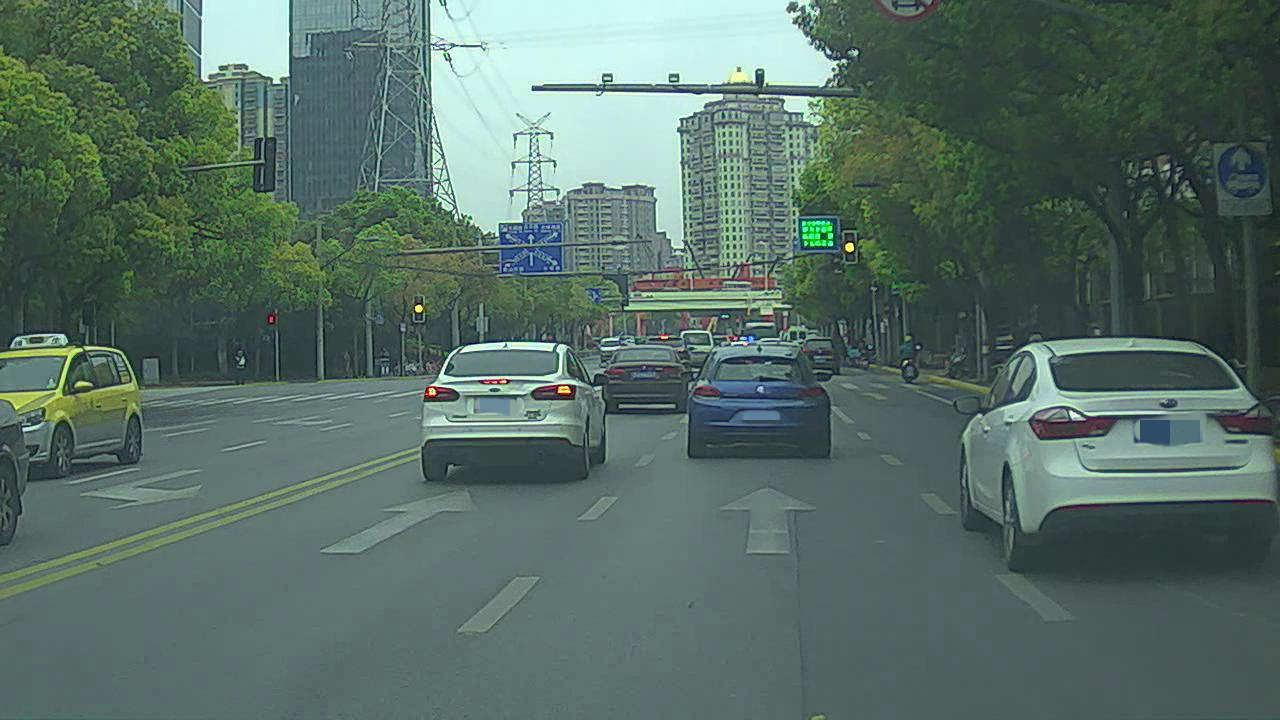traffic_light: (410, 294, 427, 323), (845, 228, 857, 262)
